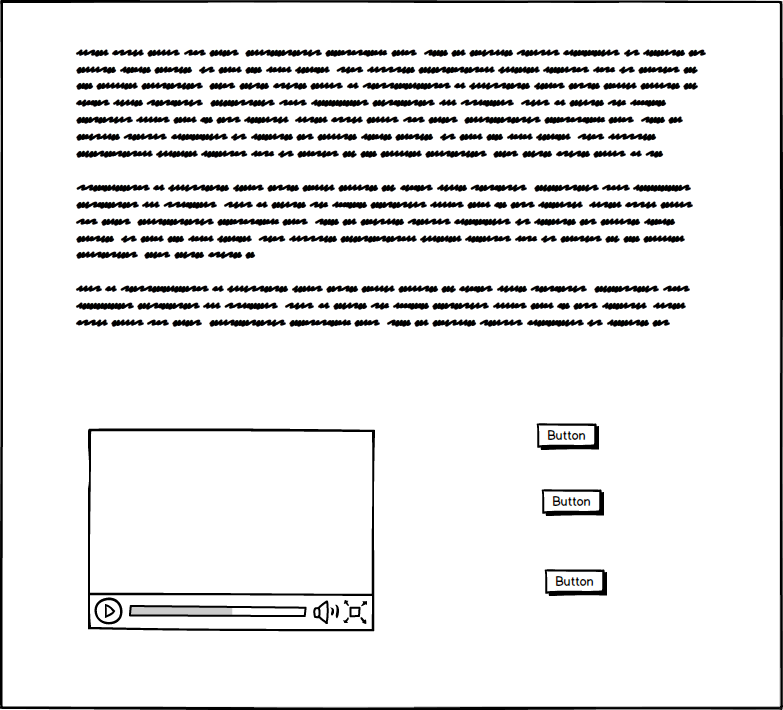button: (532, 418, 605, 454), (536, 484, 610, 519), (539, 565, 615, 599)
p: (70, 37, 716, 331)
video: (82, 423, 381, 638)
